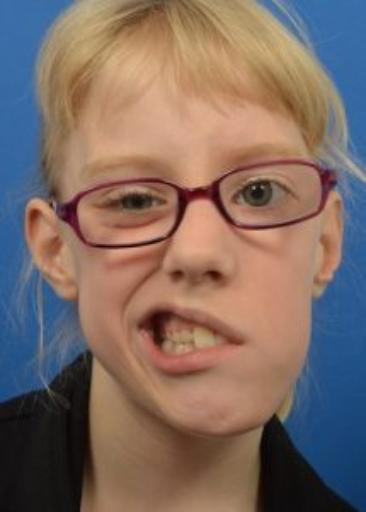left_eye: (230, 177, 300, 210)
left_lip_corner: (236, 334, 251, 353)
right_eye: (98, 194, 171, 216)
right_lip_corner: (132, 320, 154, 335)
